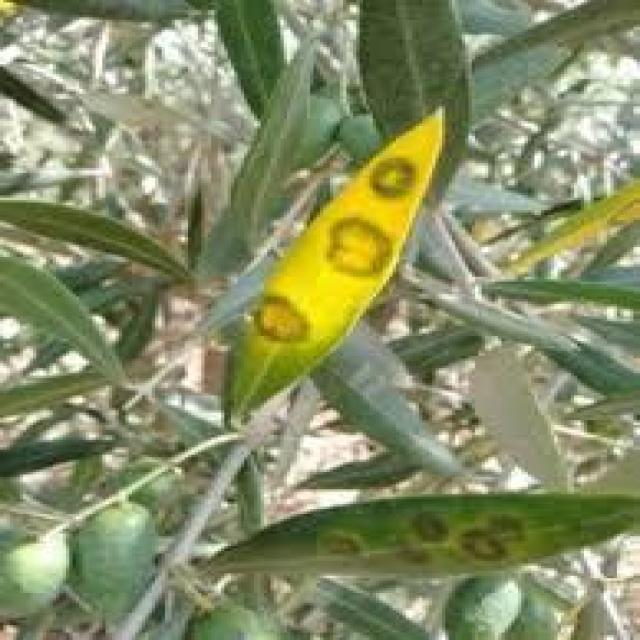OlivePeacockSpot: (231, 109, 439, 412), (202, 496, 636, 576)
